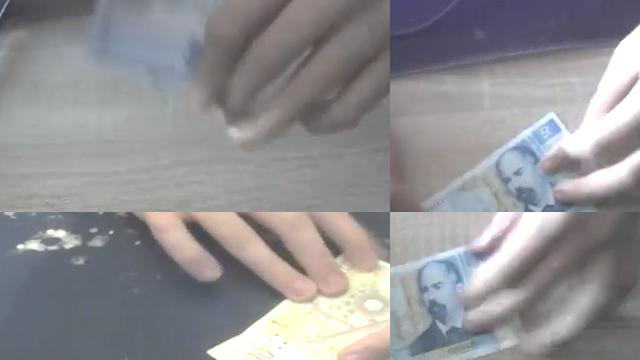10leva: (207, 261, 390, 360)
20leva: (421, 113, 597, 212), (390, 247, 504, 360)
